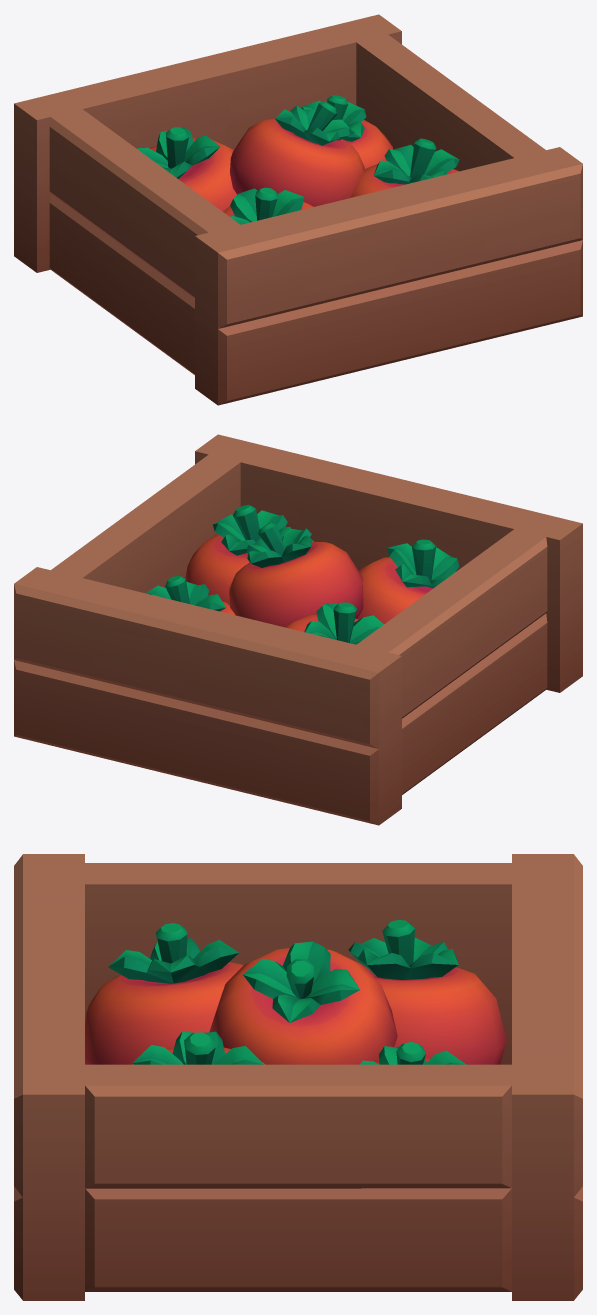
File: crate_tomatoes.glb
3 views of the same model, one above another, from view 1: azimuth 30°, elevation 25°; view 2: azimuth 150°, elevation 25°; view 3: azimuth 270°, elevation 25° (orthographic). The views are drawn at different scales.
Visible parts, largest first — view 1: crate_tomatoes; view 2: crate_tomatoes; view 3: crate_tomatoes.
Boxes of the visible parts, bbox=[...] form: crate_tomatoes: bbox=[14, 14, 582, 405]; crate_tomatoes: bbox=[14, 434, 582, 825]; crate_tomatoes: bbox=[14, 854, 582, 1300].
Size of the model in its own units: 2 by 0.9233 by 2.
Materials: 1 (1 with a texture image).
